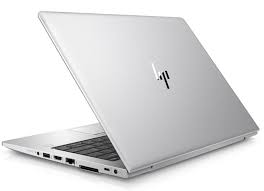laptop: (12, 7, 259, 172)
